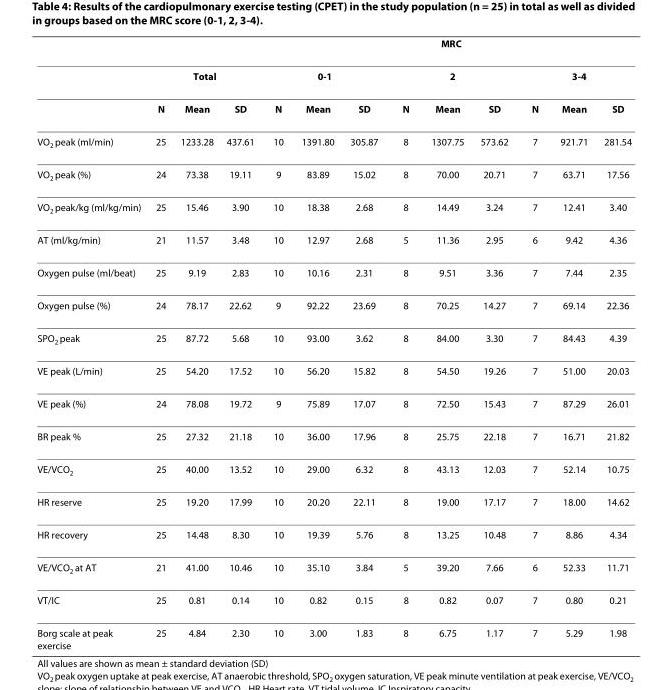table: (36, 36, 631, 650)
table column: (36, 36, 147, 650), (419, 36, 471, 650), (291, 36, 341, 650), (341, 36, 389, 650), (471, 36, 519, 650), (172, 36, 219, 650), (548, 36, 595, 650), (219, 36, 263, 650), (595, 36, 631, 650), (389, 36, 419, 650), (519, 36, 548, 650), (263, 36, 291, 650), (147, 36, 172, 650)
table column header: (36, 36, 631, 124)
table row: (36, 615, 631, 650), (36, 124, 631, 158), (36, 58, 631, 91), (36, 91, 631, 124), (36, 158, 631, 191), (36, 255, 631, 288), (36, 288, 631, 321), (36, 321, 631, 354), (36, 386, 631, 419), (36, 419, 631, 452), (36, 452, 631, 485), (36, 517, 631, 550), (36, 550, 631, 583), (36, 191, 631, 223), (36, 223, 631, 255), (36, 354, 631, 386), (36, 485, 631, 517), (36, 583, 631, 615), (36, 36, 631, 58)
table spanning cell: (263, 36, 631, 58), (389, 58, 519, 91), (263, 58, 389, 91), (147, 58, 263, 91), (519, 58, 631, 91)
